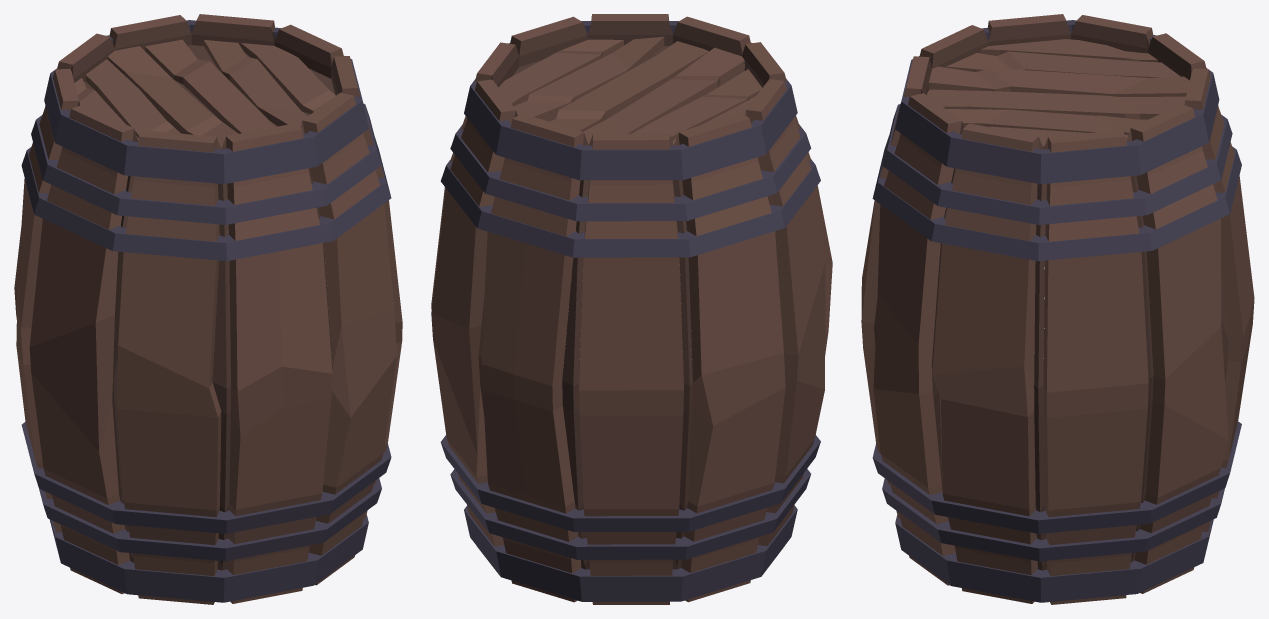
The model's file is Barrel-transformed.glb.
3 renders of one model, left to right at view 1: azimuth 30°, elevation 25°; view 2: azimuth 150°, elevation 25°; view 3: azimuth 270°, elevation 25°, orthographic.
Visible parts, largest first — view 1: Barrel; view 2: Barrel; view 3: Barrel.
Boxes of the visible parts, bbox=[...] form: Barrel: bbox=[14, 14, 402, 604]; Barrel: bbox=[431, 14, 832, 604]; Barrel: bbox=[861, 14, 1254, 604].
Size of the model in its own units: 1.04 by 1.35 by 1.03.
